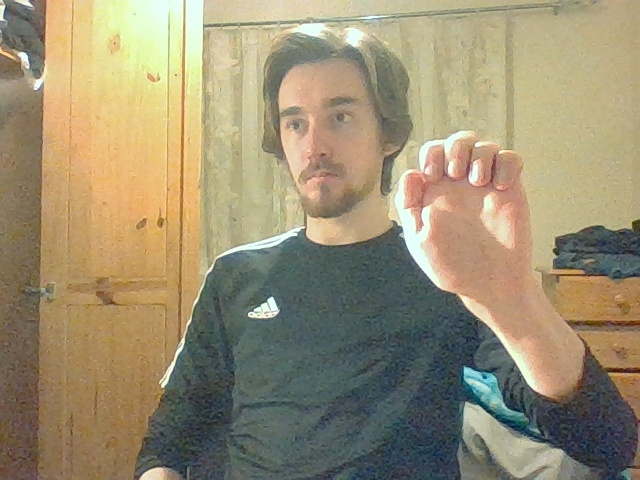your: (392, 130, 534, 287)
